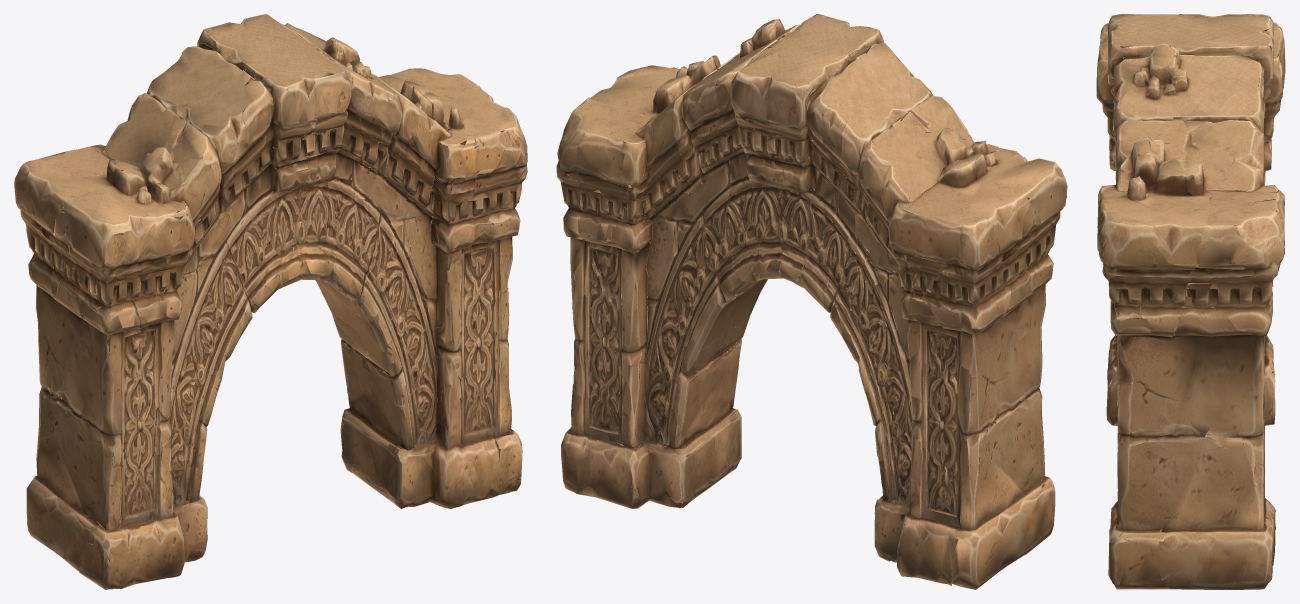
The model's file is LowArch.fbx.
3 views of the same model, side by side, from view 1: azimuth 30°, elevation 25°; view 2: azimuth 150°, elevation 25°; view 3: azimuth 270°, elevation 25° (orthographic).
Parts seen in each view (by area): view 1: LowArch; view 2: LowArch; view 3: LowArch.
Part boxes in pixels (x1,y1,x2,y2): LowArch: (14,14,527,589); LowArch: (556,14,1067,589); LowArch: (1096,14,1285,589).
Bounding box in the file's own units: 2.64 × 2.75 × 1.
1 material, 1 textured.
